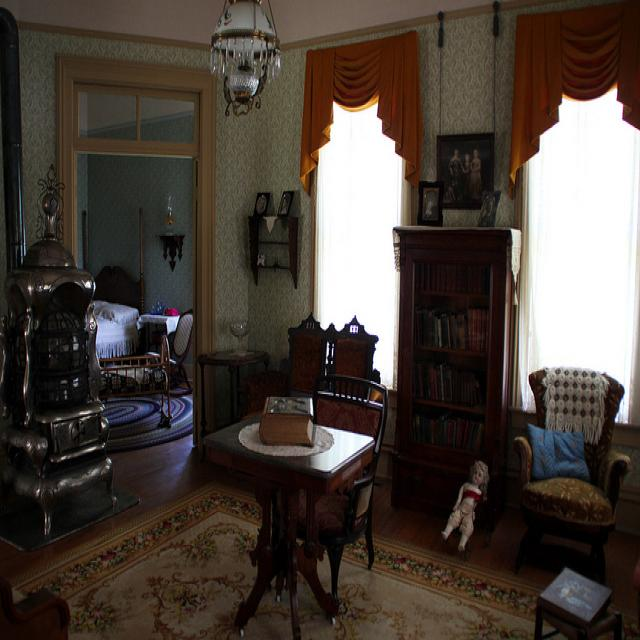chair: (515, 368, 631, 588), (312, 373, 388, 618), (287, 311, 331, 398), (326, 315, 381, 381), (169, 310, 194, 396)
dining table: (196, 408, 376, 632)
